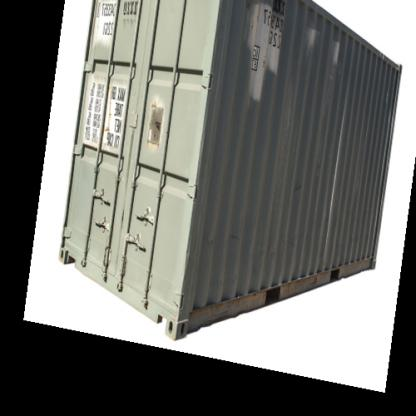Damage: (188, 279, 325, 310)
